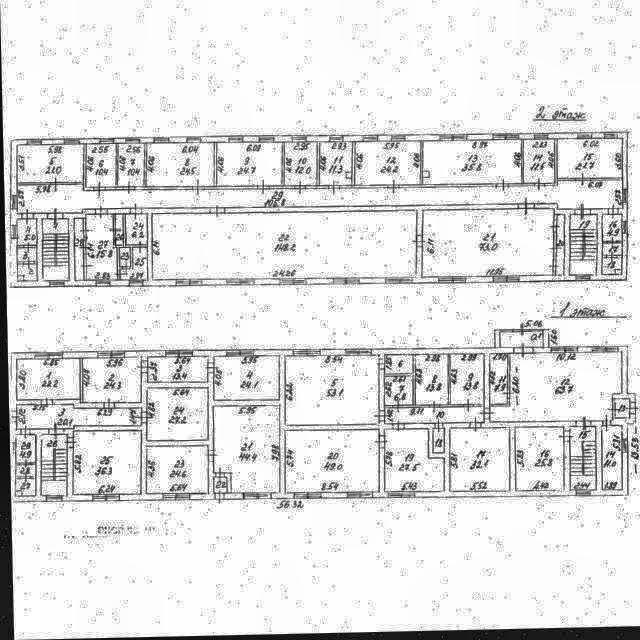room: (16, 182, 622, 213), (151, 212, 416, 280), (487, 354, 621, 424), (420, 211, 554, 279), (283, 357, 378, 426), (282, 430, 376, 494), (211, 406, 278, 493), (71, 431, 140, 495), (422, 142, 521, 186), (448, 431, 508, 493), (382, 431, 441, 493), (145, 388, 206, 441), (513, 428, 562, 493), (14, 404, 139, 429), (353, 142, 420, 187), (145, 143, 213, 187), (144, 446, 206, 494), (212, 357, 278, 401), (216, 143, 281, 187), (14, 357, 78, 401), (556, 140, 621, 181), (81, 358, 139, 402), (17, 144, 82, 183), (85, 214, 116, 280), (41, 219, 69, 280), (568, 217, 596, 278), (448, 355, 481, 406), (568, 429, 593, 493), (414, 356, 446, 406), (383, 409, 482, 425), (39, 434, 64, 495), (146, 357, 207, 382), (319, 142, 351, 187), (284, 143, 316, 186), (523, 141, 554, 185), (599, 428, 620, 492), (86, 144, 115, 187), (117, 143, 143, 187), (119, 247, 146, 281), (382, 377, 411, 407), (488, 356, 505, 406), (499, 334, 541, 350), (124, 214, 145, 245), (554, 216, 564, 277), (73, 218, 82, 280), (14, 434, 33, 463), (601, 217, 621, 244), (383, 356, 411, 375), (16, 219, 36, 245), (13, 478, 33, 496), (602, 260, 620, 277), (16, 264, 35, 280), (431, 430, 442, 455), (16, 247, 35, 261), (601, 245, 621, 258), (211, 477, 225, 494), (615, 402, 627, 421), (114, 214, 121, 245), (118, 248, 129, 267), (14, 465, 33, 476)
